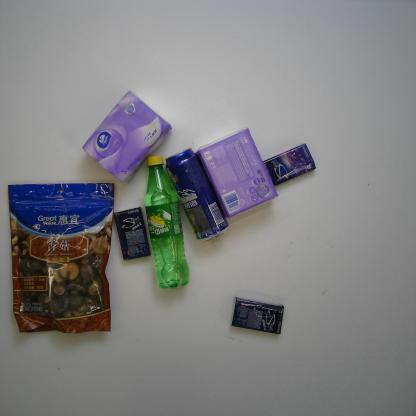Alcohol: (165, 146, 230, 244)
Dried Food: (8, 182, 114, 335)
Drink: (144, 154, 191, 290)
Gum: (263, 143, 316, 188), (231, 296, 284, 335), (114, 206, 151, 261)
Tissue: (82, 90, 173, 184), (196, 127, 280, 219)
